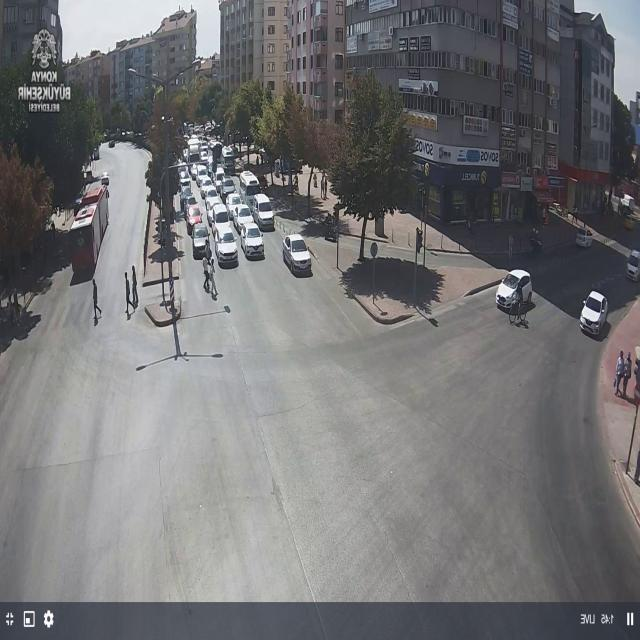Car: (496, 269, 533, 310), (282, 234, 314, 276), (581, 288, 610, 332), (213, 227, 239, 266), (239, 223, 265, 260), (250, 194, 274, 230), (230, 202, 255, 235), (238, 172, 262, 204), (190, 224, 210, 258), (209, 202, 231, 232), (226, 193, 246, 221), (186, 202, 203, 232), (204, 192, 222, 219), (625, 250, 640, 281), (220, 177, 237, 199), (180, 186, 194, 212), (575, 228, 593, 248), (198, 174, 214, 196), (195, 165, 210, 186), (214, 167, 227, 189), (178, 170, 192, 190), (190, 162, 203, 180)
Truck: (221, 146, 236, 171)
